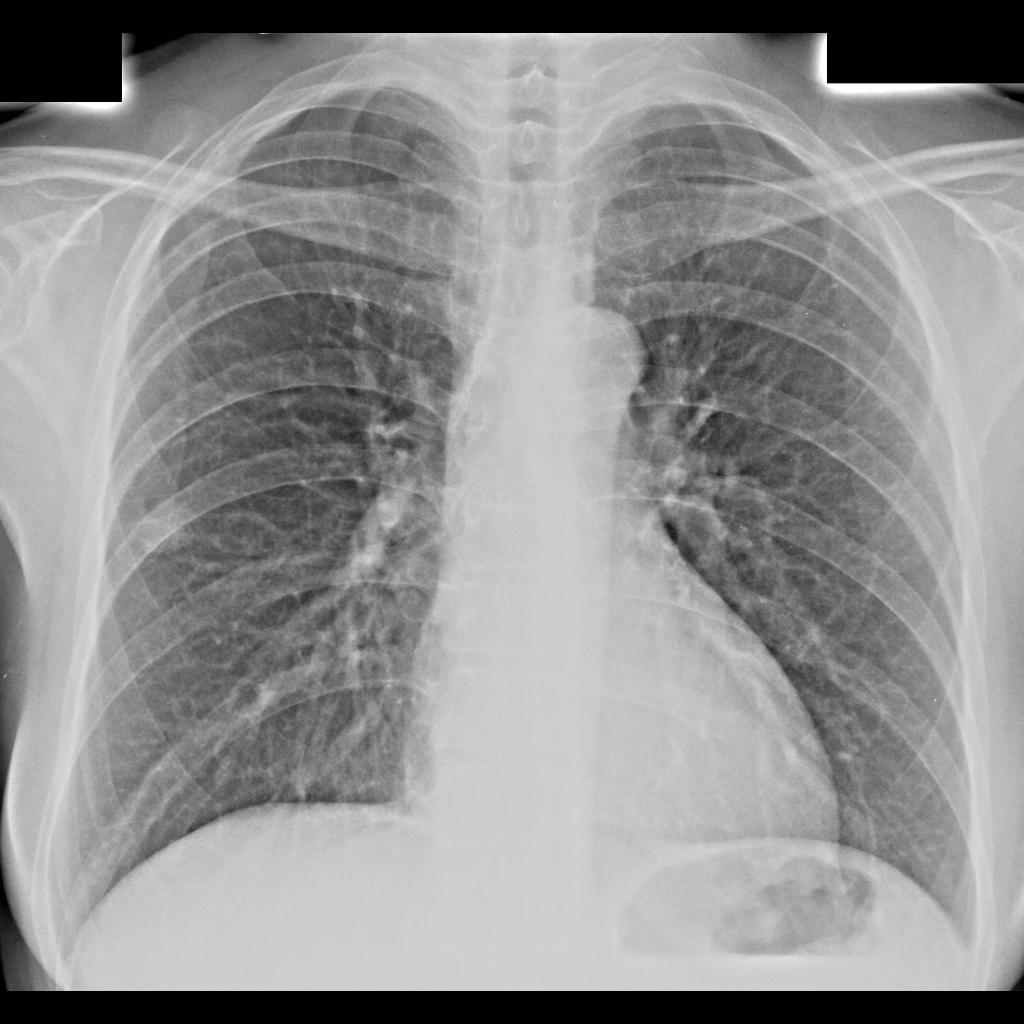Nodule: (130, 494, 198, 561)
